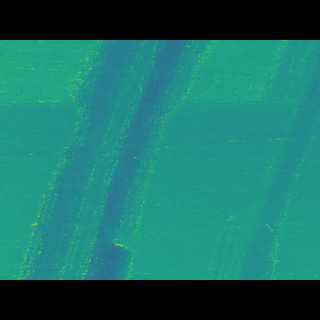Loch: (13, 70, 210, 250), (207, 69, 320, 250)
